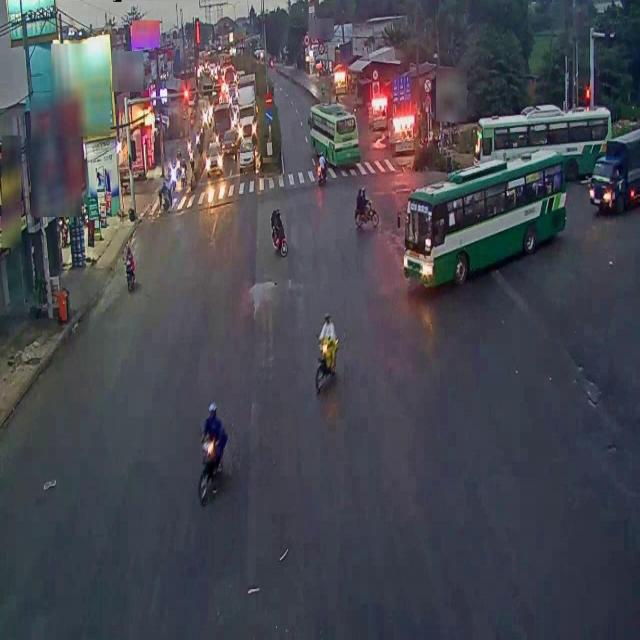motorcycle: (198, 403, 226, 502), (314, 314, 339, 397), (352, 186, 378, 230), (270, 210, 288, 262), (126, 249, 138, 294)
